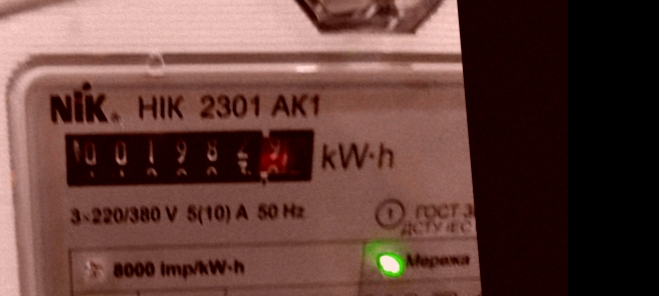0: (81, 138, 100, 168), (112, 138, 131, 168)
1: (143, 136, 158, 166)
2: (233, 131, 254, 161)
8: (204, 134, 222, 163)
9: (265, 134, 287, 163), (173, 136, 190, 166)
screen: (46, 98, 334, 217)
